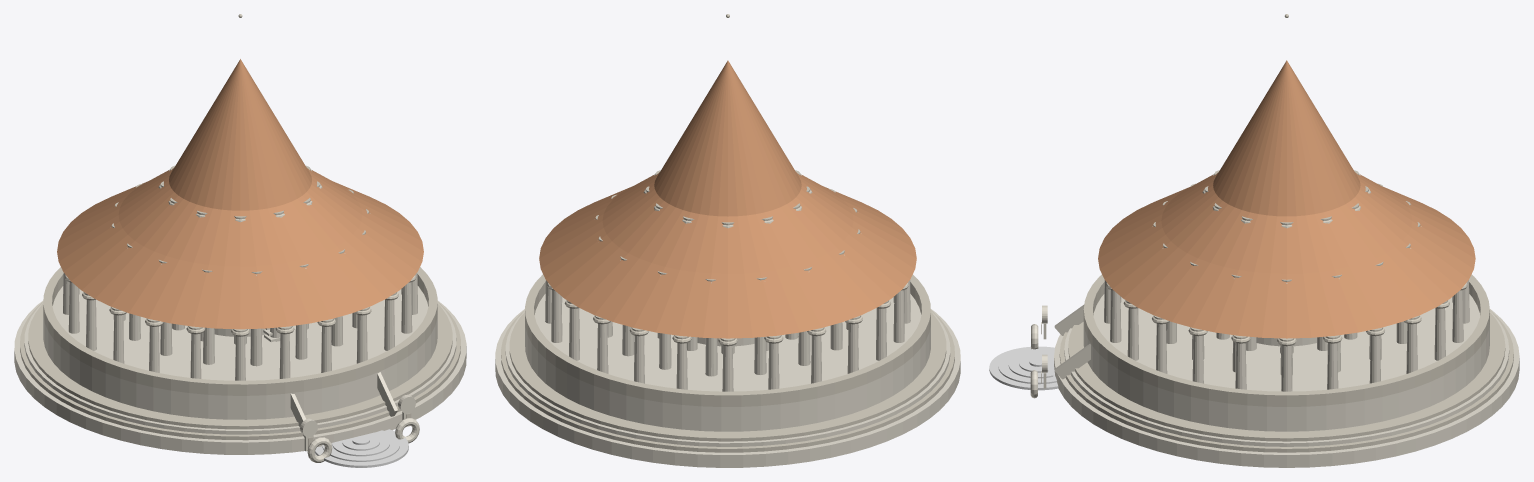
Rendered from medirigiriya_watadageya.glb.
The picture shows the model from 3 angles, left to right: view 1: azimuth 30°, elevation 25°; view 2: azimuth 150°, elevation 25°; view 3: azimuth 270°, elevation 25°; orthographic projection. The views are drawn at different scales.
Visible parts, largest first — view 1: Roof_Lower, Platform_Tier2, Roof_Mid, Roof_Upper, Parapet_outer, Platform_Tier1, Moulding_3, Moulding_1, Moulding_2, Moonstone_Band0, Moonstone_Band1, Moonstone_Band2 (+11 smaller); view 2: Roof_Lower, Platform_Tier2, Roof_Mid, Roof_Upper, Platform_Tier1, Parapet_outer, Moulding_3, Moulding_1, Moulding_2, Outer_col_0.004, Outer_col_0.012, Outer_col_0.003 (+10 smaller); view 3: Roof_Lower, Platform_Tier2, Roof_Mid, Roof_Upper, Parapet_outer, Platform_Tier1, Moulding_3, Moulding_1, Moulding_2, Moonstone_Band0, Moonstone_Band1, Outer_col_0.004 (+6 smaller).
Boxes of the visible parts, box(x1,y1,x2,y2) form: Roof_Lower: box(57, 181, 423, 329); Platform_Tier2: box(43, 286, 437, 419); Roof_Mid: box(118, 168, 362, 266); Roof_Upper: box(169, 59, 311, 210); Parapet_outer: box(43, 267, 437, 395); Platform_Tier1: box(14, 300, 466, 454); Moulding_3: box(28, 303, 452, 429); Moulding_1: box(20, 302, 460, 440); Moulding_2: box(24, 302, 456, 434); Moonstone_Band0: box(315, 429, 408, 467); Moonstone_Band1: box(322, 430, 399, 461); Moonstone_Band2: box(332, 432, 389, 456); Roof_Lower: box(539, 186, 916, 338); Platform_Tier2: box(525, 294, 930, 431); Roof_Mid: box(602, 172, 853, 273); Roof_Upper: box(654, 60, 801, 216); Platform_Tier1: box(495, 309, 960, 467); Parapet_outer: box(525, 274, 930, 406); Moulding_3: box(509, 312, 946, 441); Moulding_1: box(501, 310, 954, 452); Moulding_2: box(505, 311, 950, 446); Outer_col_0.004: box(569, 308, 579, 360); Outer_col_0.012: box(876, 308, 886, 360); Outer_col_0.003: box(551, 290, 562, 342); Roof_Lower: box(1098, 187, 1475, 338); Platform_Tier2: box(1083, 294, 1489, 431); Roof_Mid: box(1161, 172, 1412, 273); Roof_Upper: box(1213, 60, 1360, 216); Parapet_outer: box(1083, 274, 1489, 406); Platform_Tier1: box(1054, 309, 1519, 467); Moulding_3: box(1068, 312, 1505, 441); Moulding_1: box(1059, 310, 1513, 452); Moulding_2: box(1064, 311, 1509, 446); Moonstone_Band0: box(989, 346, 1058, 390); Moonstone_Band1: box(998, 349, 1056, 384); Outer_col_0.004: box(1434, 308, 1445, 360).
Size of the model in its own units: 18 by 15.38 by 20.5.
